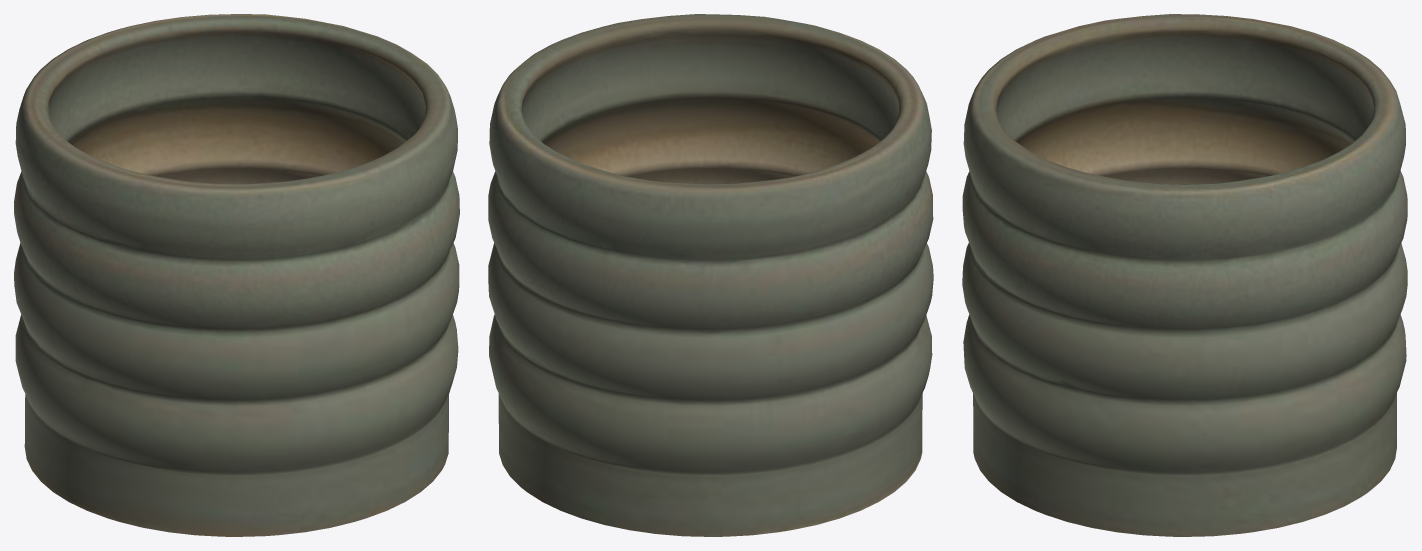
The picture shows the model from 3 angles, left to right: view 1: azimuth 30°, elevation 25°; view 2: azimuth 150°, elevation 25°; view 3: azimuth 270°, elevation 25°; orthographic projection.
Visible parts, largest first — view 1: ASY_ART_70641358_S01_NV01; view 2: ASY_ART_70641358_S01_NV01; view 3: ASY_ART_70641358_S01_NV01.
Boxes of the visible parts, left/top/right/bottom form: ASY_ART_70641358_S01_NV01: left=14, top=14, right=459, bottom=536; ASY_ART_70641358_S01_NV01: left=488, top=14, right=933, bottom=536; ASY_ART_70641358_S01_NV01: left=962, top=14, right=1407, bottom=536.
Bounding box in the file's own units: 0.1147 × 0.098 × 0.1146.
Materials: 1 (1 with a texture image).
